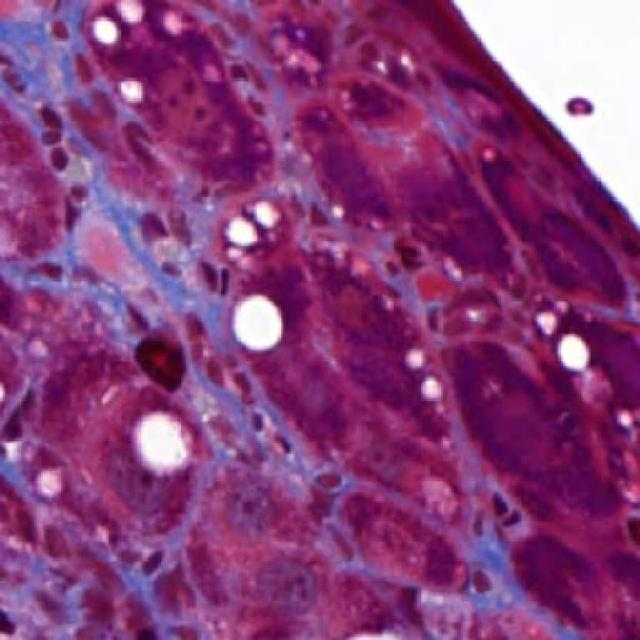inflammation: (132, 331, 192, 394)
